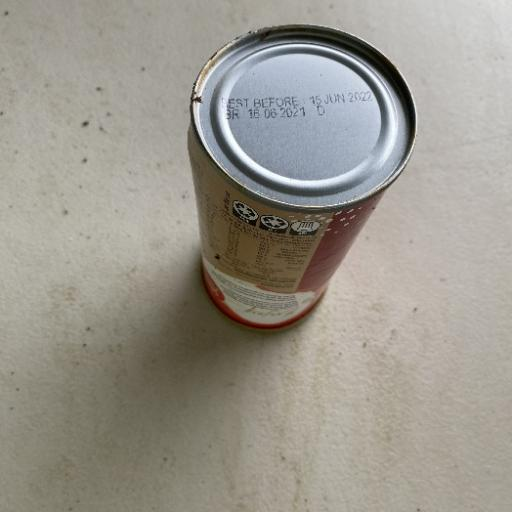Metal: (184, 22, 419, 332)
